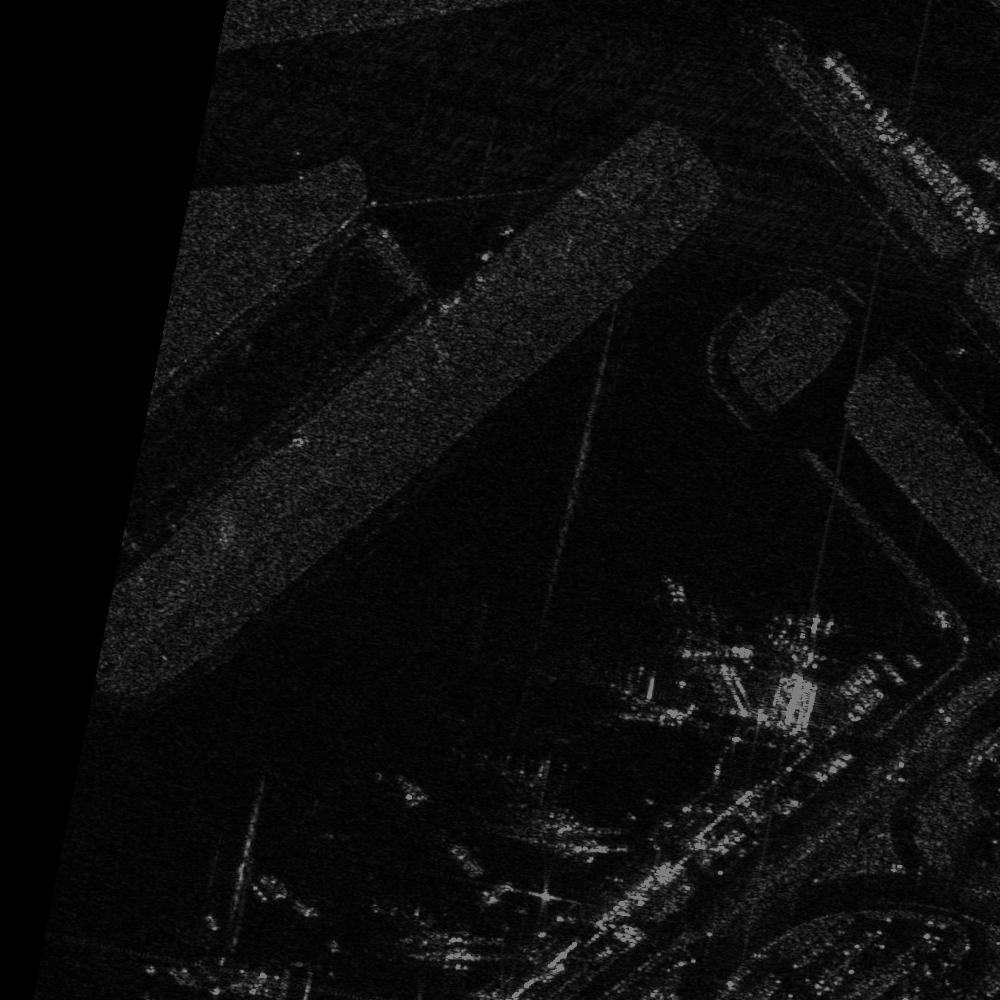Boeing737: (676, 601, 757, 670), (484, 755, 554, 820), (608, 662, 661, 731)
Boeing787: (769, 603, 854, 672)
